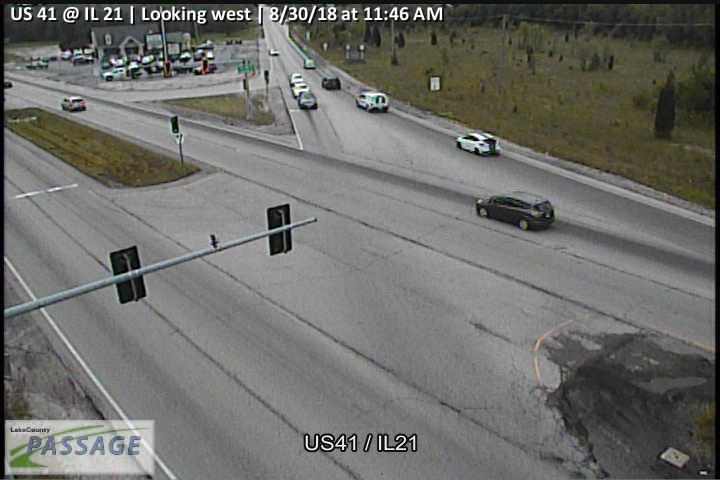SUV: (476, 191, 556, 233), (354, 89, 391, 113), (60, 95, 87, 112), (299, 91, 319, 111), (321, 75, 341, 91), (70, 55, 95, 67), (294, 83, 308, 96)
Sedan: (457, 132, 501, 157), (25, 58, 49, 69), (291, 71, 304, 85), (304, 57, 317, 69), (268, 46, 280, 56)
Truck: (102, 65, 143, 82)
